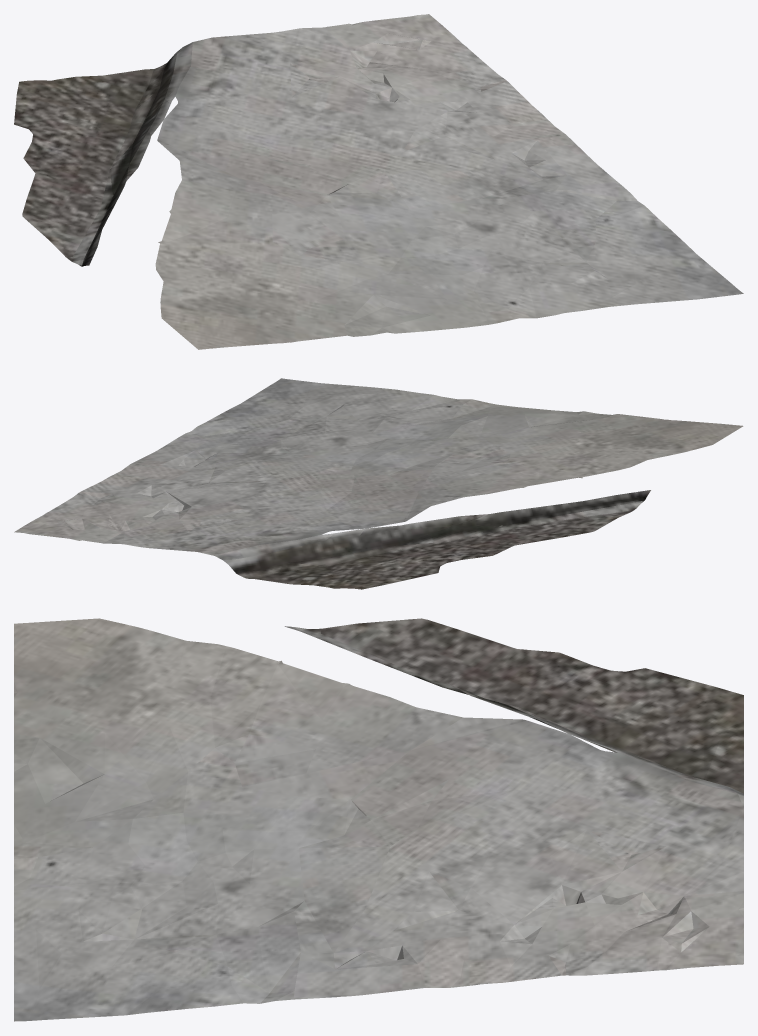
3 views of the same model, one above another, from view 1: azimuth 30°, elevation 25°; view 2: azimuth 150°, elevation 25°; view 3: azimuth 270°, elevation 25° (orthographic). The views are drawn at different scales.
Bounding box in the file's own units: 0.8374 × 0.1197 × 0.8374.
2 materials, 2 textured.
